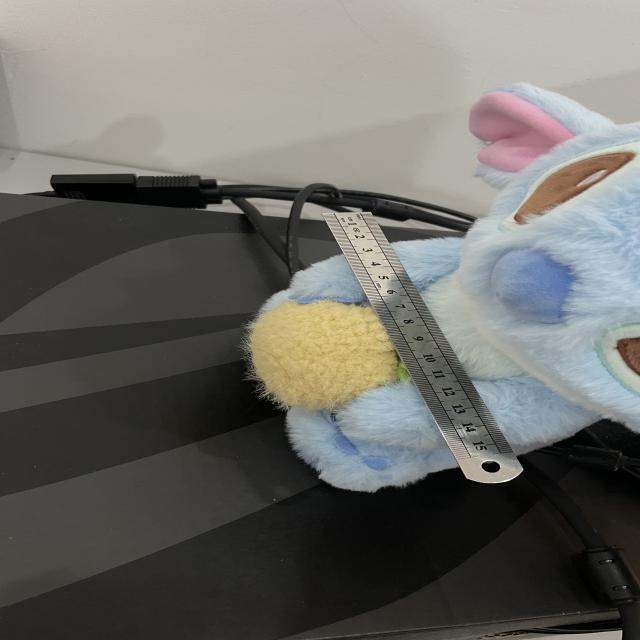ruler: (323, 212, 522, 483)
